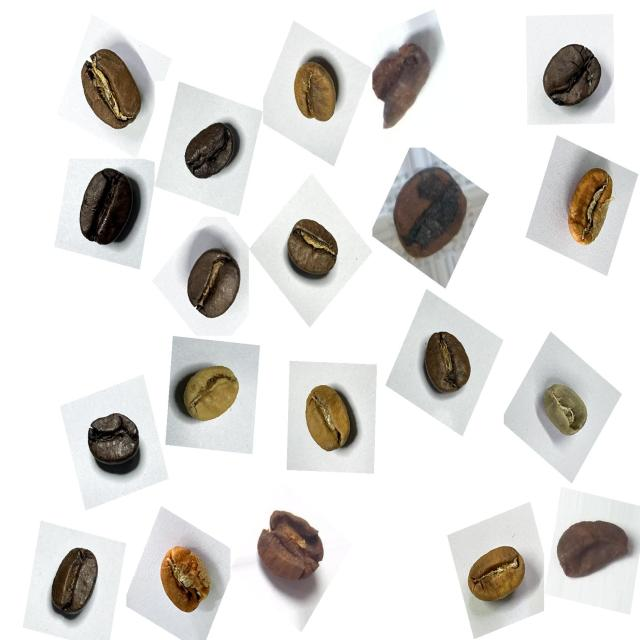bad: (384, 157, 473, 271), (546, 503, 634, 596), (248, 502, 330, 600), (367, 30, 439, 121)
dark: (70, 160, 152, 256), (531, 28, 613, 122), (177, 233, 252, 331), (80, 397, 152, 485), (177, 105, 246, 190)
green: (529, 372, 596, 451)
light: (550, 156, 625, 260), (149, 531, 222, 626), (293, 372, 367, 464), (170, 350, 250, 435), (458, 532, 534, 618), (284, 44, 352, 133)
medium: (70, 34, 154, 141), (38, 537, 114, 629), (279, 208, 347, 291), (415, 322, 482, 406)
